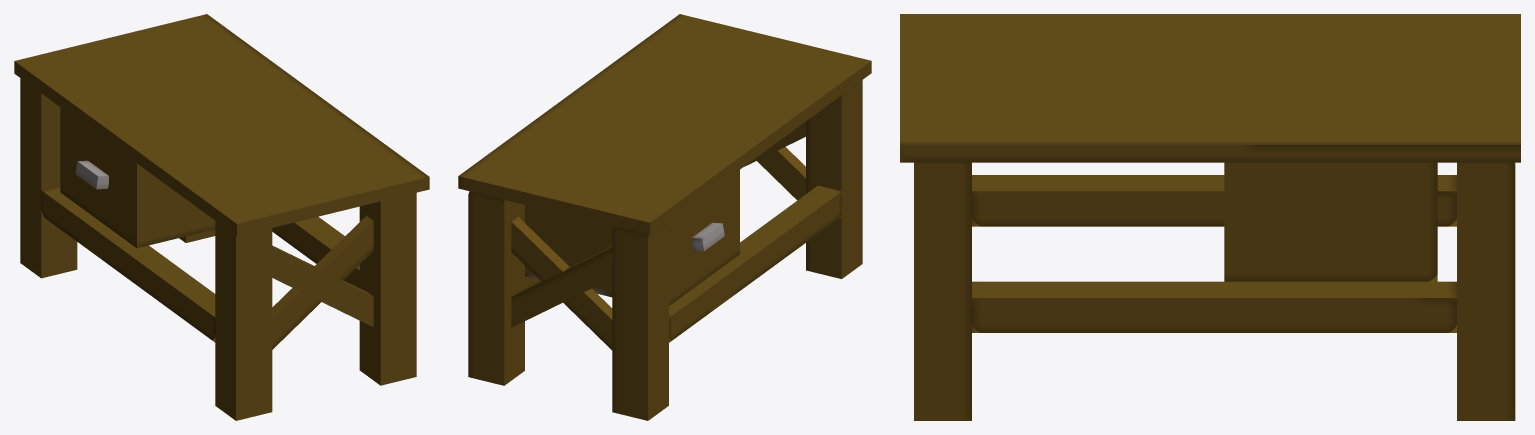
File: drawing_desk.obj
The picture shows the model from 3 angles, left to right: view 1: azimuth 30°, elevation 25°; view 2: azimuth 150°, elevation 25°; view 3: azimuth 270°, elevation 25°; orthographic projection. The views are drawn at different scales.
Visible parts, largest first — view 1: ban1, zhu2, chouti, zhu4, hengliang, zhu1, wan4, wan3, hengliang2, la; view 2: ban1, zhu1, zhu3, chouti, zhu2, hengliang, wan2, wan1, wan4, la, wan3; view 3: ban1, chouti, hengliang2, zhu3, zhu4, hengliang.
Boxes of the visible parts, x1,y1,x2,y2 form: ban1: (14,14,429,236); zhu2: (215,221,272,420); chouti: (60,107,215,248); zhu4: (359,192,416,385); hengliang: (41,185,215,342); zhu1: (20,78,77,278); wan4: (272,215,373,349); wan3: (272,245,373,327); hengliang2: (272,216,359,287); la: (75,160,108,189); ban1: (458,14,871,235); zhu1: (612,222,668,420); zhu3: (468,191,524,385); chouti: (525,170,739,305); zhu2: (806,80,862,278); hengliang: (669,185,841,342); wan2: (511,216,612,350); wan1: (511,246,612,327); wan4: (756,147,805,200); la: (691,222,724,251); wan3: (744,121,805,166); ban1: (900,14,1520,162); chouti: (1224,162,1437,281); hengliang2: (972,281,1456,332); zhu3: (1457,162,1515,420); zhu4: (914,162,971,420); hengliang: (972,175,1456,226).
Bounding box in the file's own units: 1 × 1 × 2.
